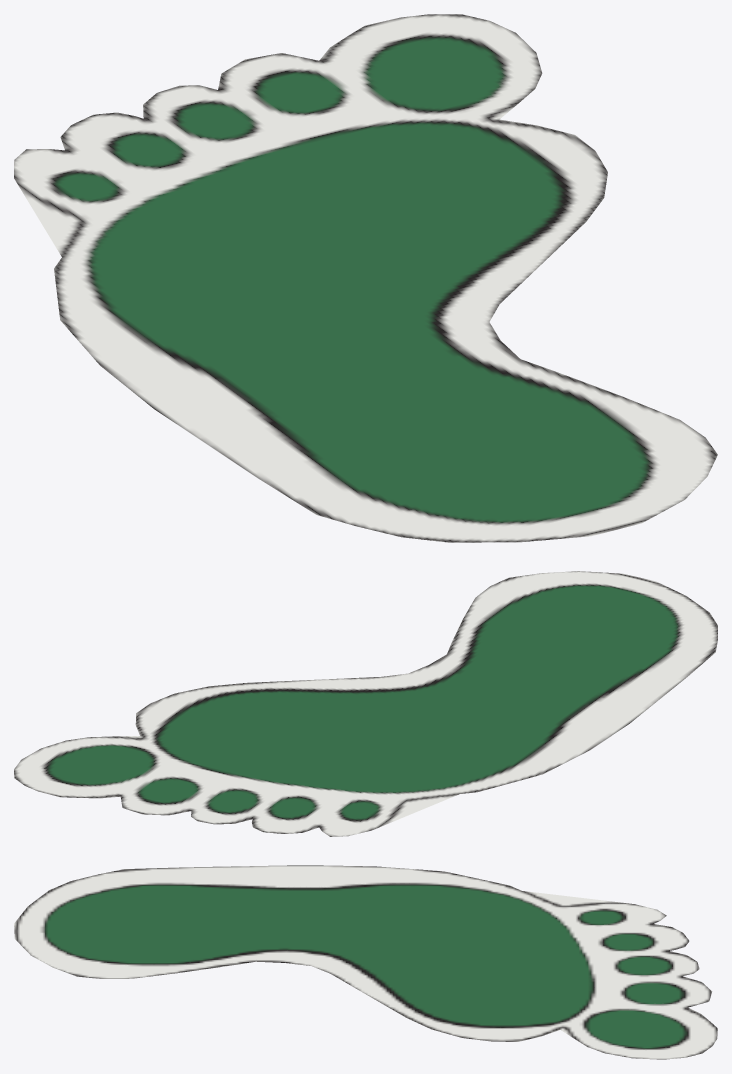
File: LeftFootprint.fbx
3 renders of one model, top to bottom at view 1: azimuth 30°, elevation 25°; view 2: azimuth 150°, elevation 25°; view 3: azimuth 270°, elevation 25°, orthographic. The views are drawn at different scales.
Parts seen in each view (by area): view 1: Plane.001; view 2: Plane.001; view 3: Plane.001.
Boxes of the visible parts, left/top/right/bottom form: Plane.001: left=14, top=14, right=717, bottom=542; Plane.001: left=14, top=571, right=717, bottom=836; Plane.001: left=14, top=865, right=717, bottom=1059.
Bounding box in the file's own units: 793 × 0.000197 × 1211.
